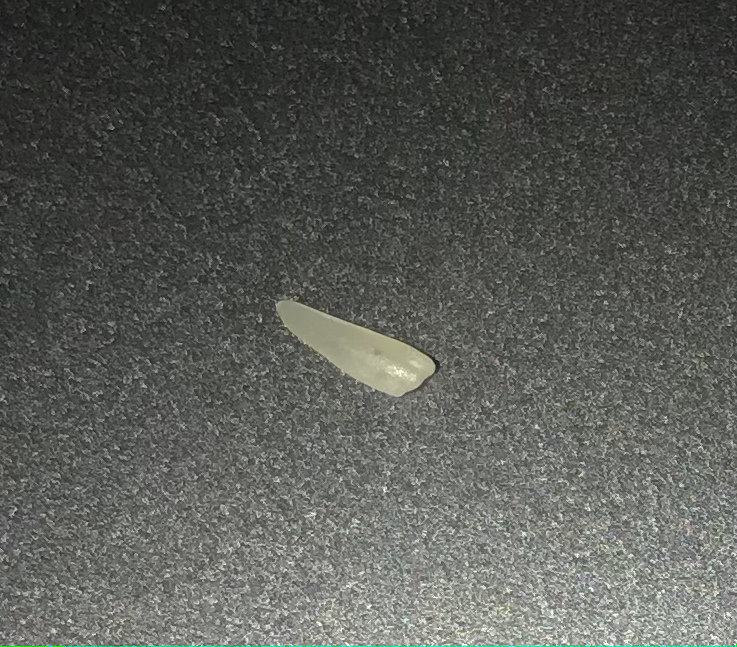Gao Long Lai: (265, 276, 440, 415)
